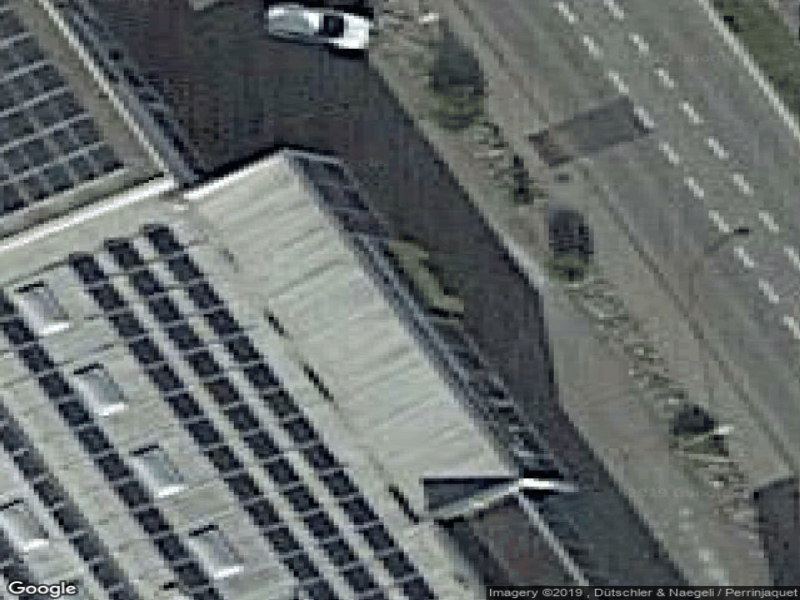pv: (79, 230, 444, 600), (1, 289, 221, 600), (1, 9, 121, 221)
